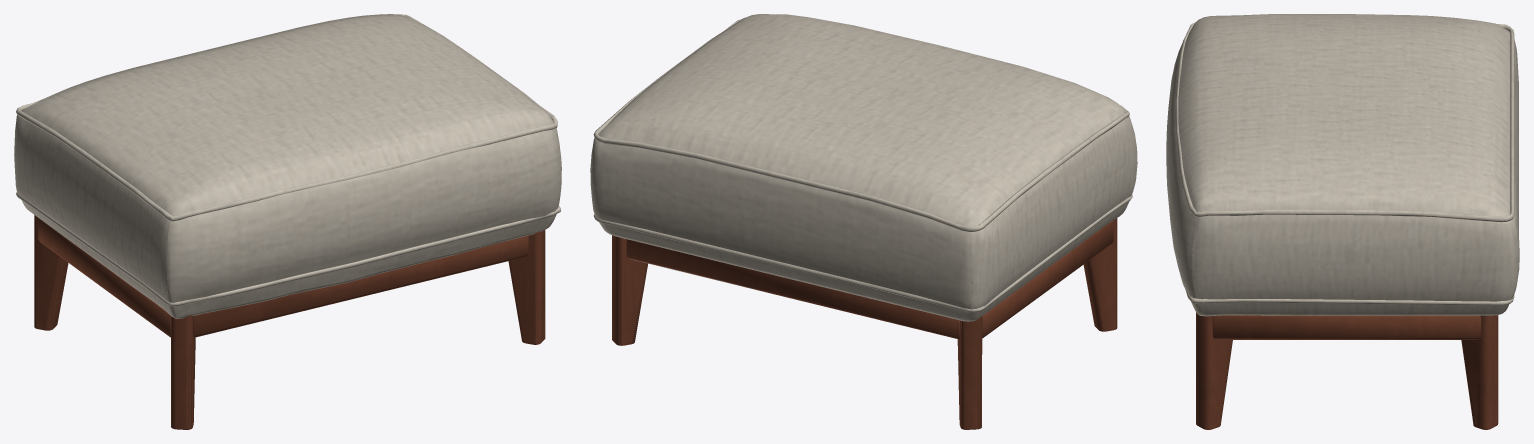
3 views of the same model, side by side, from view 1: azimuth 30°, elevation 25°; view 2: azimuth 150°, elevation 25°; view 3: azimuth 270°, elevation 25° (orthographic). The views are drawn at different scales.
Visible parts, largest first — view 1: visual_RootNode; view 2: visual_RootNode; view 3: visual_RootNode.
Part boxes in pixels (<box>): visual_RootNode: <box>14,14,561,429</box>; visual_RootNode: <box>590,14,1137,429</box>; visual_RootNode: <box>1166,14,1519,429</box>.
Bounding box in the file's own units: 0.7939 × 0.5941 × 0.4654.
Materials: 1 (1 with a texture image).
